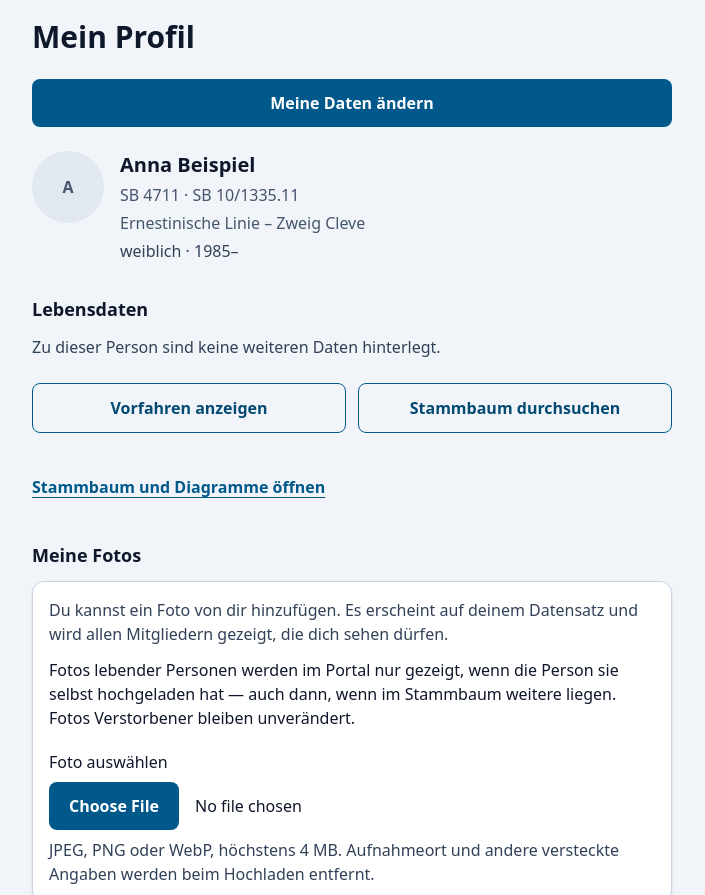
the way in › is on the member’s own profile
Click the link "Stammbaum durchsuchen" at coordinates (515, 408), box [358,383,672,433]
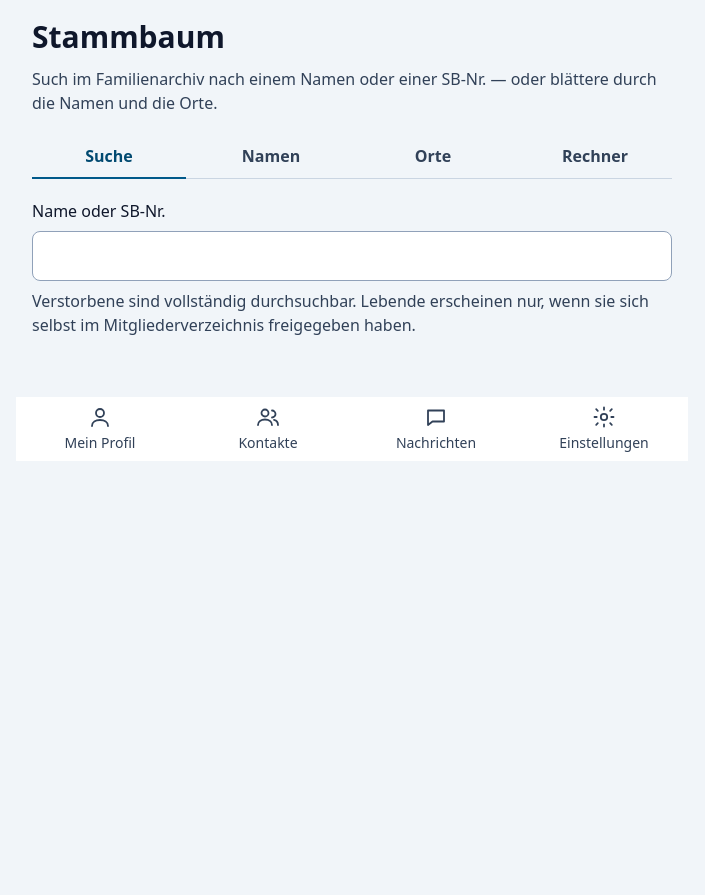
Result: the heading "Stammbaum" is shown at [32,16,225,57]
